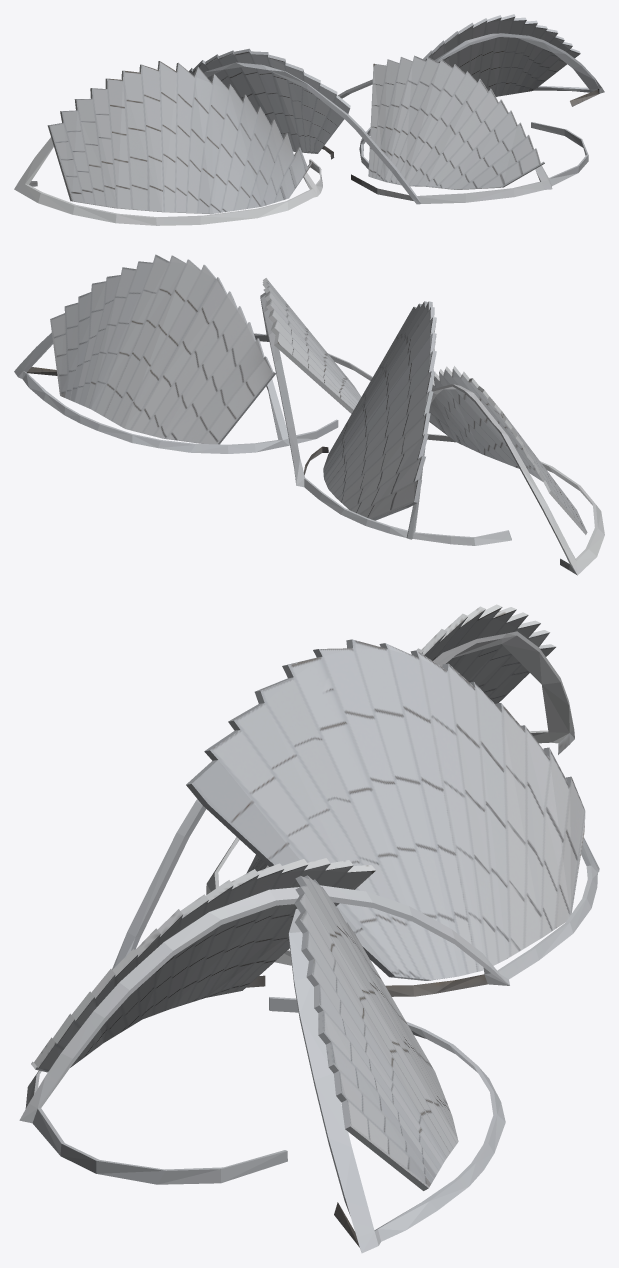
3 renders of one model, top to bottom at view 1: azimuth 30°, elevation 25°; view 2: azimuth 150°, elevation 25°; view 3: azimuth 270°, elevation 25°, orthographic. The views are drawn at different scales.
Parts seen in each view (by area): view 1: 119.001; view 2: 119.001; view 3: 119.001.
Part boxes in pixels (x1,y1,x2,y2): 119.001: (14, 14, 604, 225); 119.001: (14, 254, 604, 575); 119.001: (19, 604, 599, 1253).
Bounding box in the file's own units: 103 × 25.42 × 47.91.
1 material, 1 textured.
